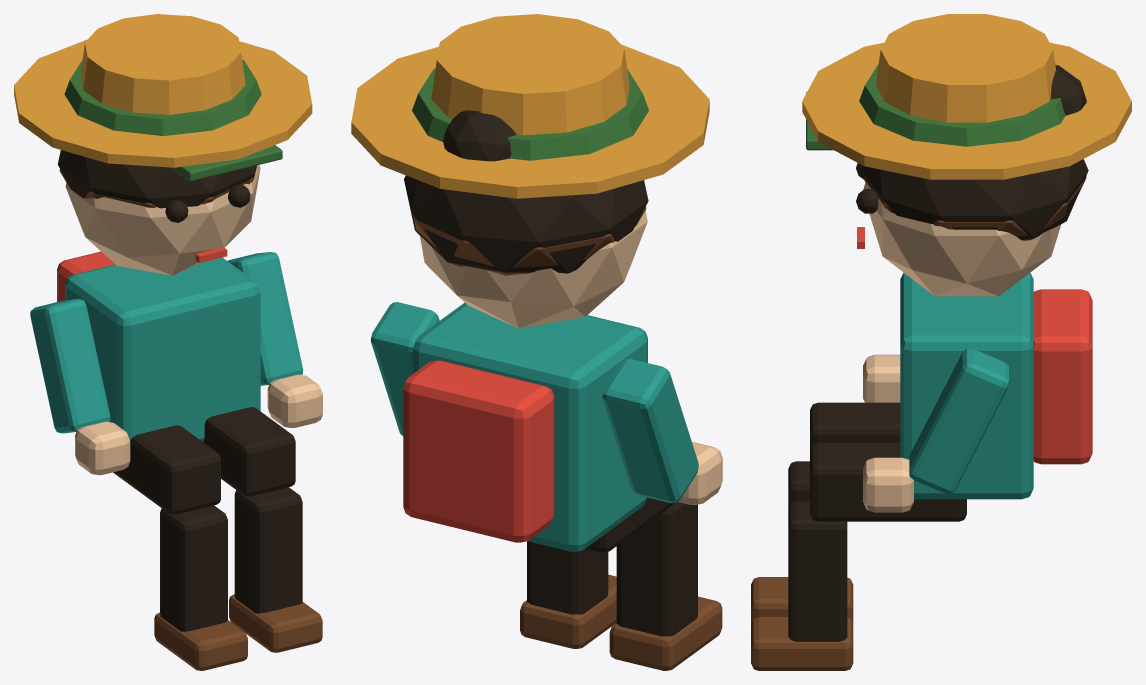
File: customers.glb
3 renders of one model, left to right at view 1: azimuth 30°, elevation 25°; view 2: azimuth 150°, elevation 25°; view 3: azimuth 270°, elevation 25°, orthographic. The views are drawn at different scales.
Visible parts, largest first — view 1: Customer_office_Torso.001, Customer_tourist_Hat.001, Customer_tourist_HatTop.001, Customer_office_Skull.001, Customer_office_Shin.003, Customer_office_Shin.002, Customer_office_Arm.002, Customer_office_Thigh.002, Customer_office_Thigh.003, Customer_office_HairCap.001, Customer_xeom_Cap.001, Customer_office_Arm.003 (+6 smaller); view 2: Customer_tourist_Backpack.001, Customer_office_Torso.001, Customer_tourist_Hat.001, Customer_tourist_HatTop.001, Customer_office_HairCap.001, Customer_office_Skull.001, Customer_office_Arm.002, Customer_office_Shin.002, Customer_xeom_Cap.001, Customer_office_Shin.003, Customer_office_Shoe.002, Customer_office_Arm.003 (+5 smaller); view 3: Customer_office_Torso.001, Customer_tourist_Hat.001, Customer_tourist_HatTop.001, Customer_tourist_Backpack.001, Customer_office_Skull.001, Customer_office_HairCap.001, Customer_office_Arm.003, Customer_office_Shin.003, Customer_office_Thigh.003, Customer_xeom_Cap.001, Customer_office_Shoe.003, Customer_office_Thigh.002 (+6 smaller).
Part boxes in pixels (left/top/right/bottom): Customer_office_Torso.001: left=65, top=257, right=260, bottom=441; Customer_tourist_Hat.001: left=14, top=39, right=312, bottom=167; Customer_tourist_HatTop.001: left=80, top=14, right=245, bottom=114; Customer_office_Skull.001: left=65, top=165, right=260, bottom=275; Customer_office_Shin.003: left=234, top=487, right=302, bottom=613; Customer_office_Shin.002: left=160, top=505, right=227, bottom=631; Customer_office_Arm.002: left=30, top=299, right=110, bottom=433; Customer_office_Thigh.002: left=113, top=425, right=220, bottom=514; Customer_office_Thigh.003: left=203, top=407, right=295, bottom=496; Customer_office_HairCap.001: left=57, top=150, right=256, bottom=208; Customer_xeom_Cap.001: left=64, top=59, right=261, bottom=135; Customer_office_Arm.003: left=228, top=252, right=303, bottom=385; Customer_tourist_Backpack.001: left=403, top=360, right=554, bottom=542; Customer_office_Torso.001: left=413, top=302, right=647, bottom=551; Customer_tourist_Hat.001: left=351, top=44, right=709, bottom=198; Customer_tourist_HatTop.001: left=431, top=14, right=629, bottom=135; Customer_office_HairCap.001: left=404, top=175, right=648, bottom=275; Customer_office_Skull.001: left=420, top=210, right=647, bottom=328; Customer_office_Arm.002: left=602, top=358, right=698, bottom=503; Customer_office_Shin.002: left=616, top=502, right=697, bottom=636; Customer_xeom_Cap.001: left=412, top=69, right=648, bottom=160; Customer_office_Shin.003: left=527, top=541, right=608, bottom=614; Customer_office_Shoe.002: left=609, top=596, right=722, bottom=670; Customer_office_Arm.003: left=371, top=302, right=439, bottom=436; Customer_office_Torso.001: left=900, top=272, right=1033, bottom=499; Customer_tourist_Hat.001: left=802, top=42, right=1131, bottom=179; Customer_tourist_HatTop.001: left=876, top=14, right=1056, bottom=122; Customer_tourist_Backpack.001: left=1033, top=289, right=1092, bottom=464; Customer_office_Skull.001: left=863, top=183, right=1061, bottom=296; Customer_office_HairCap.001: left=861, top=159, right=1088, bottom=240; Customer_office_Arm.003: left=909, top=348, right=1008, bottom=494; Customer_office_Shin.003: left=788, top=501, right=847, bottom=641; Customer_office_Thigh.003: left=810, top=442, right=966, bottom=521; Customer_xeom_Cap.001: left=859, top=64, right=1065, bottom=146; Customer_office_Shoe.003: left=751, top=617, right=853, bottom=670; Customer_office_Thigh.002: left=810, top=402, right=900, bottom=449.
Bounding box in the file's own units: 0.8189 × 1.66 × 0.97.
